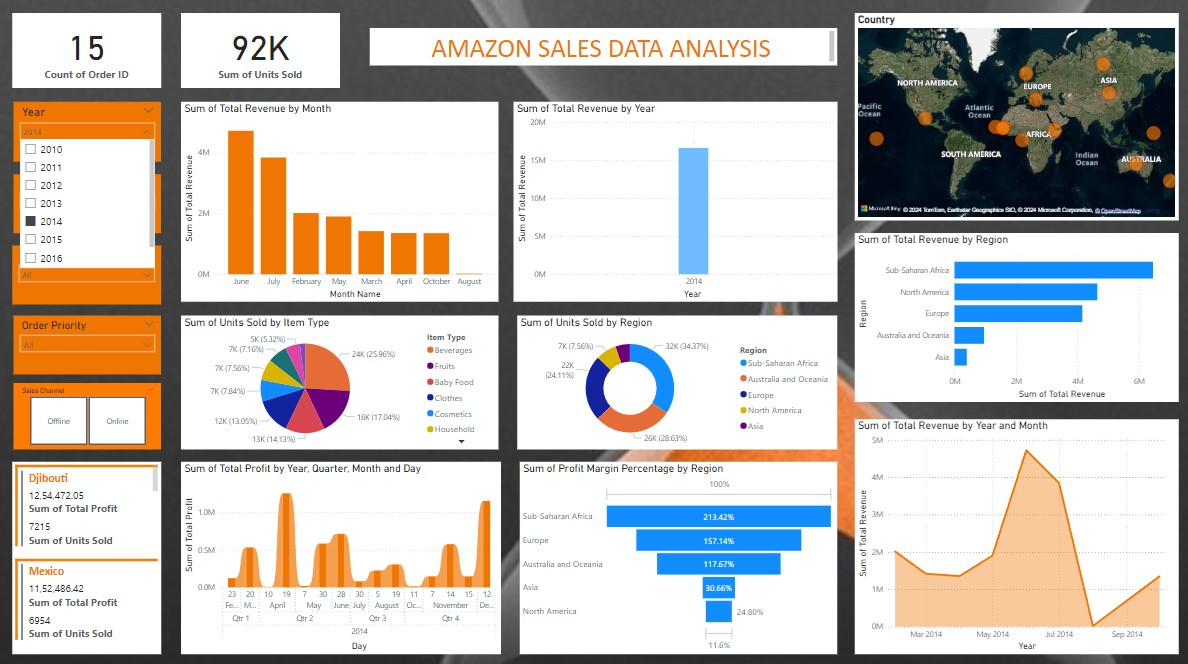

What the dashboard file says about the page in this screenshot:
{"tool":"powerbi","page":{"name":"Amazon Sales Dashboard","canvas":[1920,1080],"ordinal":0},"visuals":[{"type":"card","fields":{"Values":["CountNonNull(Amazon Sales Data(Final).Order ID)"]},"box":[26,24,238,120],"z":0},{"type":"card","fields":{"Values":["Sum(Amazon Sales Data(Final).Units Sold)"]},"box":[296,24,254,120],"z":1},{"type":"slicer","fields":{"Values":["Amazon Sales Data(Final).Year"]},"box":[28,166,236,96],"z":2},{"type":"textbox","box":[598,48,748,60],"z":3},{"type":"slicer","fields":{"Values":["Amazon Sales Data(Final).Quarter"]},"box":[26,396,238,94],"z":4},{"type":"slicer","fields":{"Values":["Amazon Sales Data(Final).Order Priority"]},"box":[28,508,236,94],"z":5},{"type":"slicer","fields":{"Values":["Amazon Sales Data(Final).Item Type"]},"box":[28,282,236,94],"z":6},{"type":"map","fields":{"Category":["Amazon Sales Data(Final).Country"]},"box":[1374,24,518,332],"z":7},{"type":"slicer","fields":{"Values":["Amazon Sales Data(Final).Sales Channel"]},"box":[28,616,236,106],"z":8},{"type":"columnChart","title":"Sum of Total Revenue by Month","fields":{"Category":["Amazon Sales Data(Final).Month Name"],"Y":["Sum(Amazon Sales Data(Final).Total Revenue)"]},"box":[296,166,508,320],"z":9},{"type":"barChart","fields":{"Category":["Amazon Sales Data(Final).Region"],"Y":["Sum(Amazon Sales Data(Final).Total Revenue)"]},"box":[1374,376,518,270],"z":10},{"type":"donutChart","fields":{"Y":["Sum(Amazon Sales Data(Final).Units Sold)"],"Category":["Amazon Sales Data(Final).Region"]},"box":[834,508,512,214],"z":11},{"type":"pieChart","fields":{"Category":["Amazon Sales Data(Final).Item Type"],"Y":["Sum(Amazon Sales Data(Final).Units Sold)"]},"box":[296,508,508,214],"z":12},{"type":"lineChart","fields":{"Category":["Amazon Sales Data(Final).Order Date.Variation.Date Hierarchy.Year","Amazon Sales Data(Final).Order Date.Variation.Date Hierarchy.Month"],"Y":["Sum(Amazon Sales Data(Final).Total Revenue)"]},"box":[1374,674,518,376],"z":13},{"type":"ribbonChart","fields":{"Category":["Amazon Sales Data(Final).Order Date.Variation.Date Hierarchy.Year"],"Y":["Sum(Amazon Sales Data(Final).Total Revenue)"]},"box":[828,166,518,320],"z":14},{"type":"multiRowCard","fields":{"Values":["Sum(Amazon Sales Data(Final).Total Profit)","Amazon Sales Data(Final).Country","Sum(Amazon Sales Data(Final).Units Sold)"]},"box":[26,742,238,308],"z":15},{"type":"funnel","fields":{"Y":["Sum(Amazon Sales Data(Final).Profit Margin Percentage)"],"Category":["Amazon Sales Data(Final).Region"]},"box":[838,742,508,308],"z":16},{"type":"ribbonChart","fields":{"Y":["Sum(Amazon Sales Data(Final).Total Profit)"],"Category":["Amazon Sales Data(Final).Ship Date.Variation.Date Hierarchy.Year","Amazon Sales Data(Final).Ship Date.Variation.Date Hierarchy.Quarter","Amazon Sales Data(Final).Ship Date.Variation.Date Hierarchy.Month","Amazon Sales Data(Final).Ship Date.Variation.Date Hierarchy.Day"]},"box":[296,742,512,308],"z":17}]}

Visuals, with their boxes in screenshot pixels (x1, y1, x2, y2), scaled from the page's 1920x1080 canvas onto the 1188x664 screenshot:
card - CountNonNull(Amazon Sales Data(Final).Order ID): bbox(16, 15, 163, 89)
card - Sum(Amazon Sales Data(Final).Units Sold): bbox(183, 15, 340, 89)
slicer - Amazon Sales Data(Final).Year: bbox(17, 102, 163, 161)
textbox: bbox(370, 30, 833, 66)
slicer - Amazon Sales Data(Final).Quarter: bbox(16, 243, 163, 301)
slicer - Amazon Sales Data(Final).Order Priority: bbox(17, 312, 163, 370)
slicer - Amazon Sales Data(Final).Item Type: bbox(17, 173, 163, 231)
map - Amazon Sales Data(Final).Country: bbox(850, 15, 1171, 219)
slicer - Amazon Sales Data(Final).Sales Channel: bbox(17, 379, 163, 444)
"Sum of Total Revenue by Month" columnChart: bbox(183, 102, 497, 299)
barChart - Amazon Sales Data(Final).Region x Sum(Amazon Sales Data(Final).Total Revenue): bbox(850, 231, 1171, 397)
donutChart - Sum(Amazon Sales Data(Final).Units Sold) x Amazon Sales Data(Final).Region: bbox(516, 312, 833, 444)
pieChart - Amazon Sales Data(Final).Item Type x Sum(Amazon Sales Data(Final).Units Sold): bbox(183, 312, 497, 444)
lineChart - Amazon Sales Data(Final).Order Date.Variation.Date Hierarchy.Year x Amazon Sales Data(Final).Order Date.Variation.Date Hierarchy.Month: bbox(850, 414, 1171, 646)
ribbonChart - Amazon Sales Data(Final).Order Date.Variation.Date Hierarchy.Year x Sum(Amazon Sales Data(Final).Total Revenue): bbox(512, 102, 833, 299)
multiRowCard - Sum(Amazon Sales Data(Final).Total Profit) x Amazon Sales Data(Final).Country: bbox(16, 456, 163, 646)
funnel - Sum(Amazon Sales Data(Final).Profit Margin Percentage) x Amazon Sales Data(Final).Region: bbox(519, 456, 833, 646)
ribbonChart - Sum(Amazon Sales Data(Final).Total Profit) x Amazon Sales Data(Final).Ship Date.Variation.Date Hierarchy.Year: bbox(183, 456, 500, 646)
